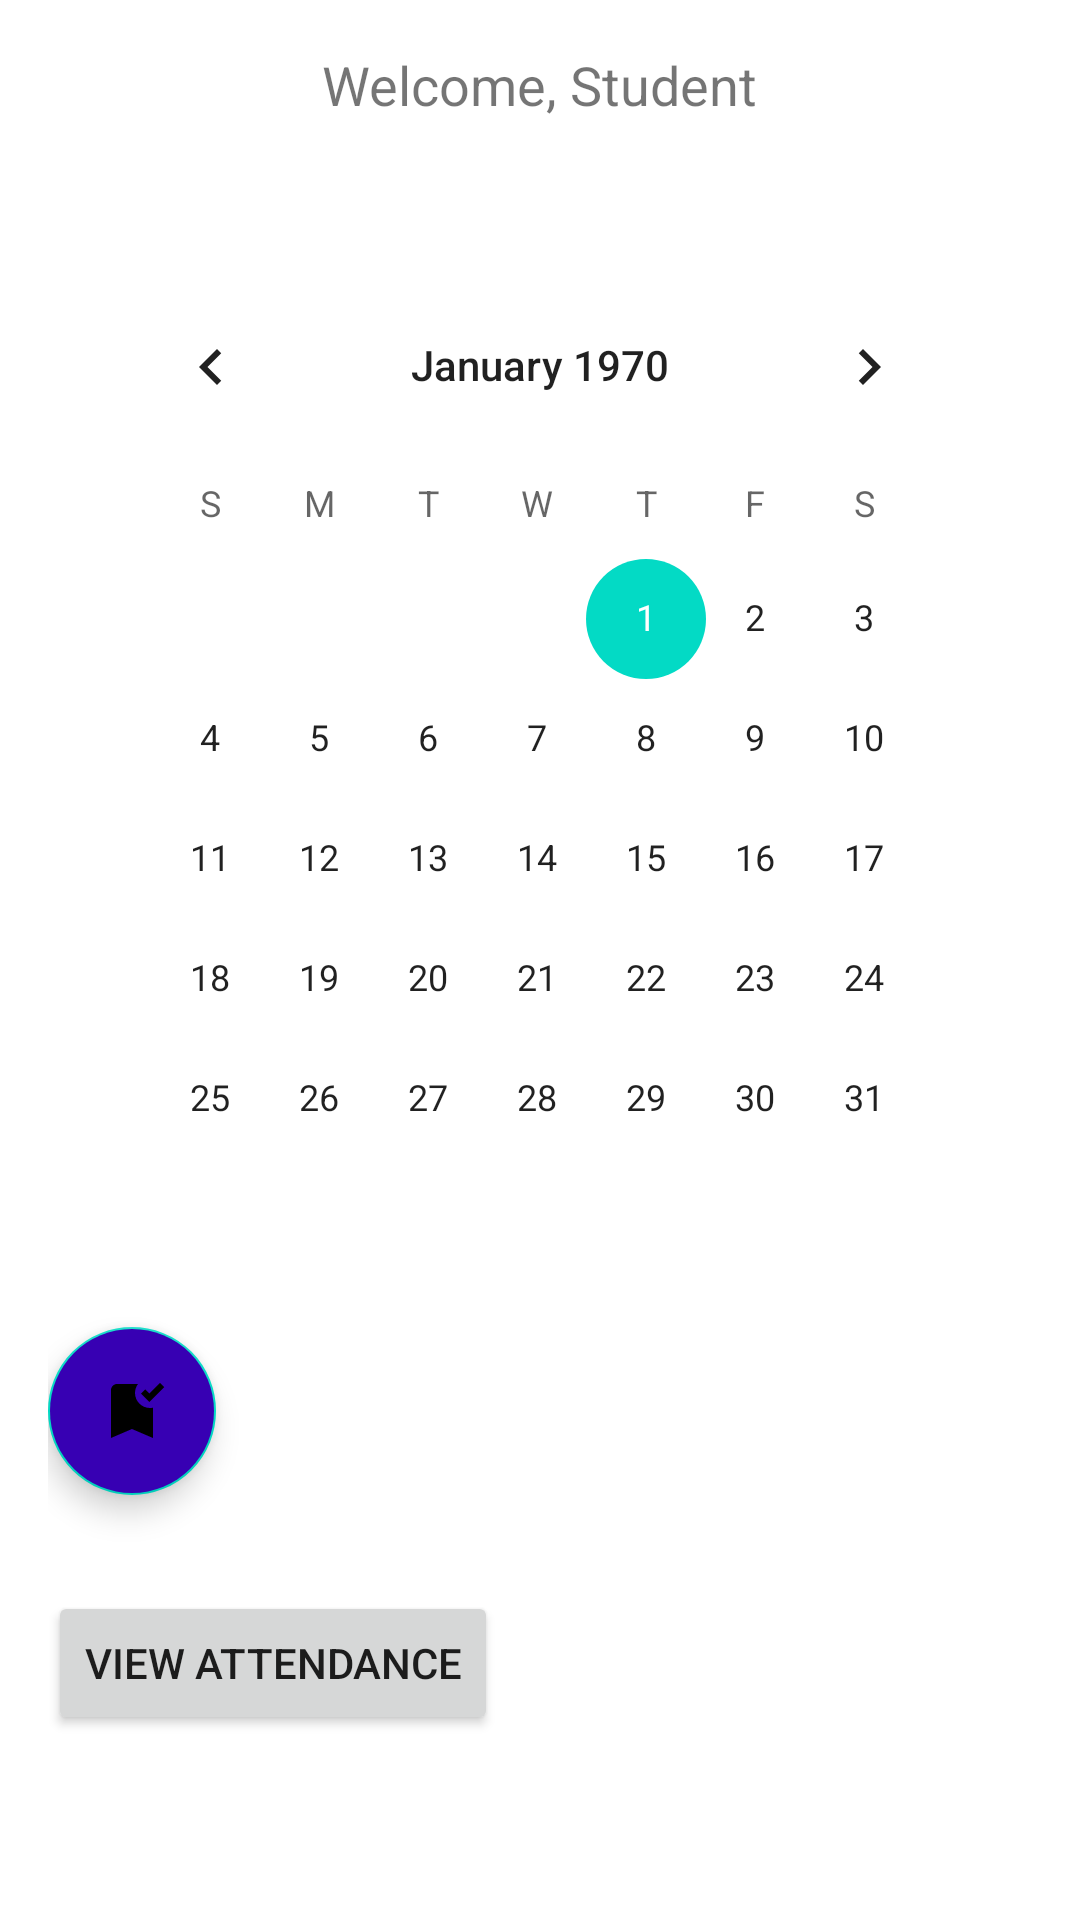

Point at icon controls on the screen. Image size 1080x1920, points as (x=x, y=y).
attandance: (x=132, y=1411)
